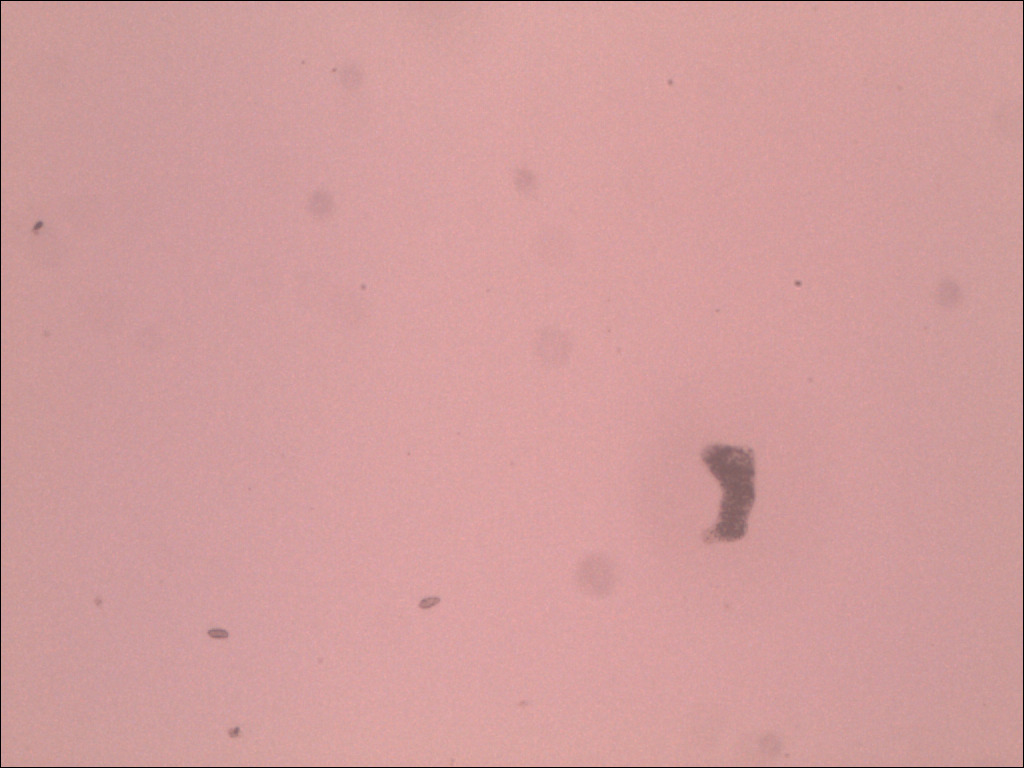amoeba: (679, 417, 780, 564)
